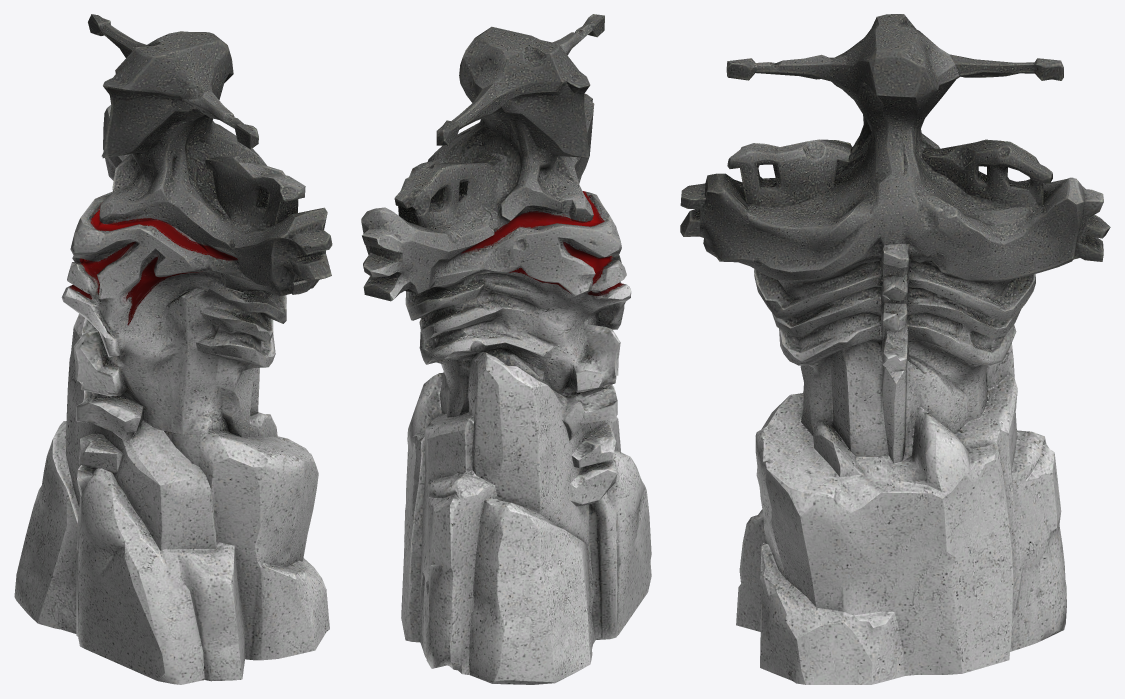
Rendered from Dire_Tower.fbx.
The picture shows the model from 3 angles, left to right: view 1: azimuth 30°, elevation 25°; view 2: azimuth 150°, elevation 25°; view 3: azimuth 270°, elevation 25°; orthographic projection. The views are drawn at different scales.
Visible parts, largest first — view 1: dire_tower; view 2: dire_tower; view 3: dire_tower.
Boxes of the visible parts, left/top/right/bottom form: dire_tower: left=14, top=14, right=332, bottom=684; dire_tower: left=361, top=14, right=651, bottom=684; dire_tower: left=680, top=14, right=1110, bottom=684.
Size of the model in its own units: 136 by 338 by 220.
